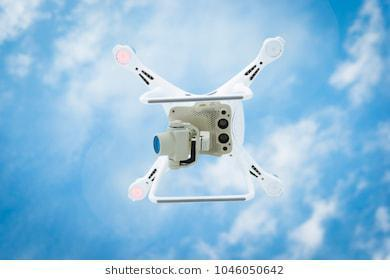drone: (99, 20, 312, 224)
